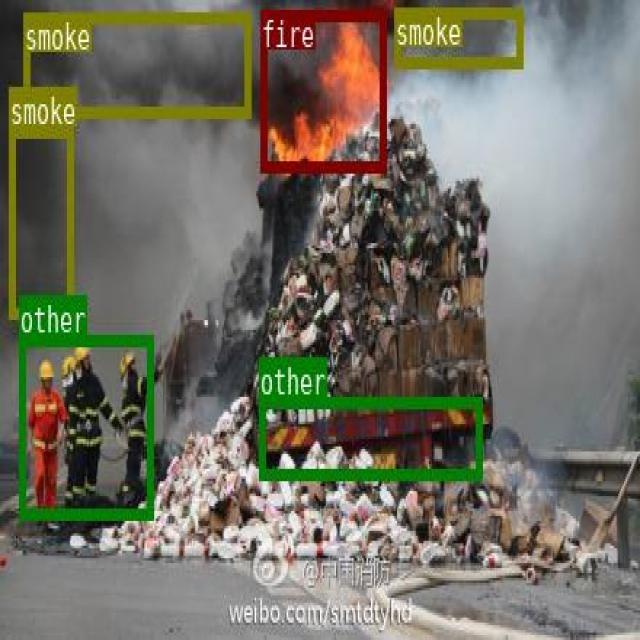fire: (260, 8, 385, 171)
smoke: (22, 10, 249, 115), (7, 126, 72, 316), (394, 7, 522, 65)
